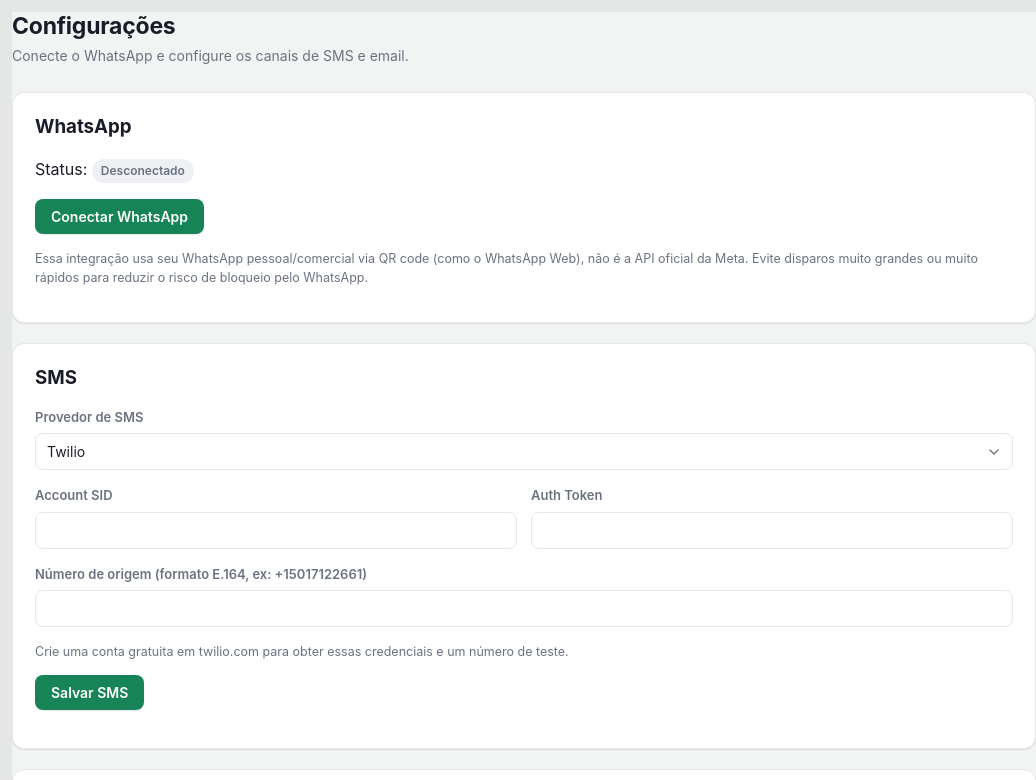
Scenario: ConfiguracoesPage - SMS provider fields › switching the provider dropdown swaps the visible fields
Check: the field labelled "Account SID" is shown, box [35,512,517,549]
Select "Celular Android (SMS Gateway)" in the dropdown labelled "Provedor de SMS" at point(524, 452), box [35,434,1013,470]
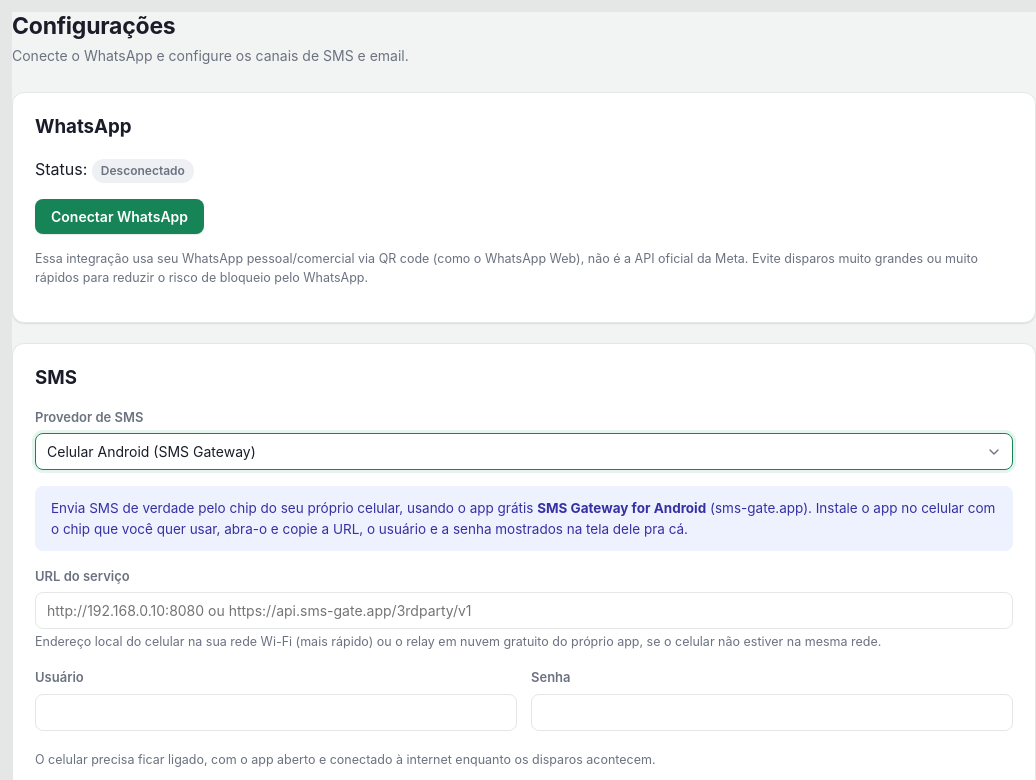
Check: the label labelled "Account SID" is gone
Check: the field labelled "URL do serviço" is shown, box [35,592,1013,630]
